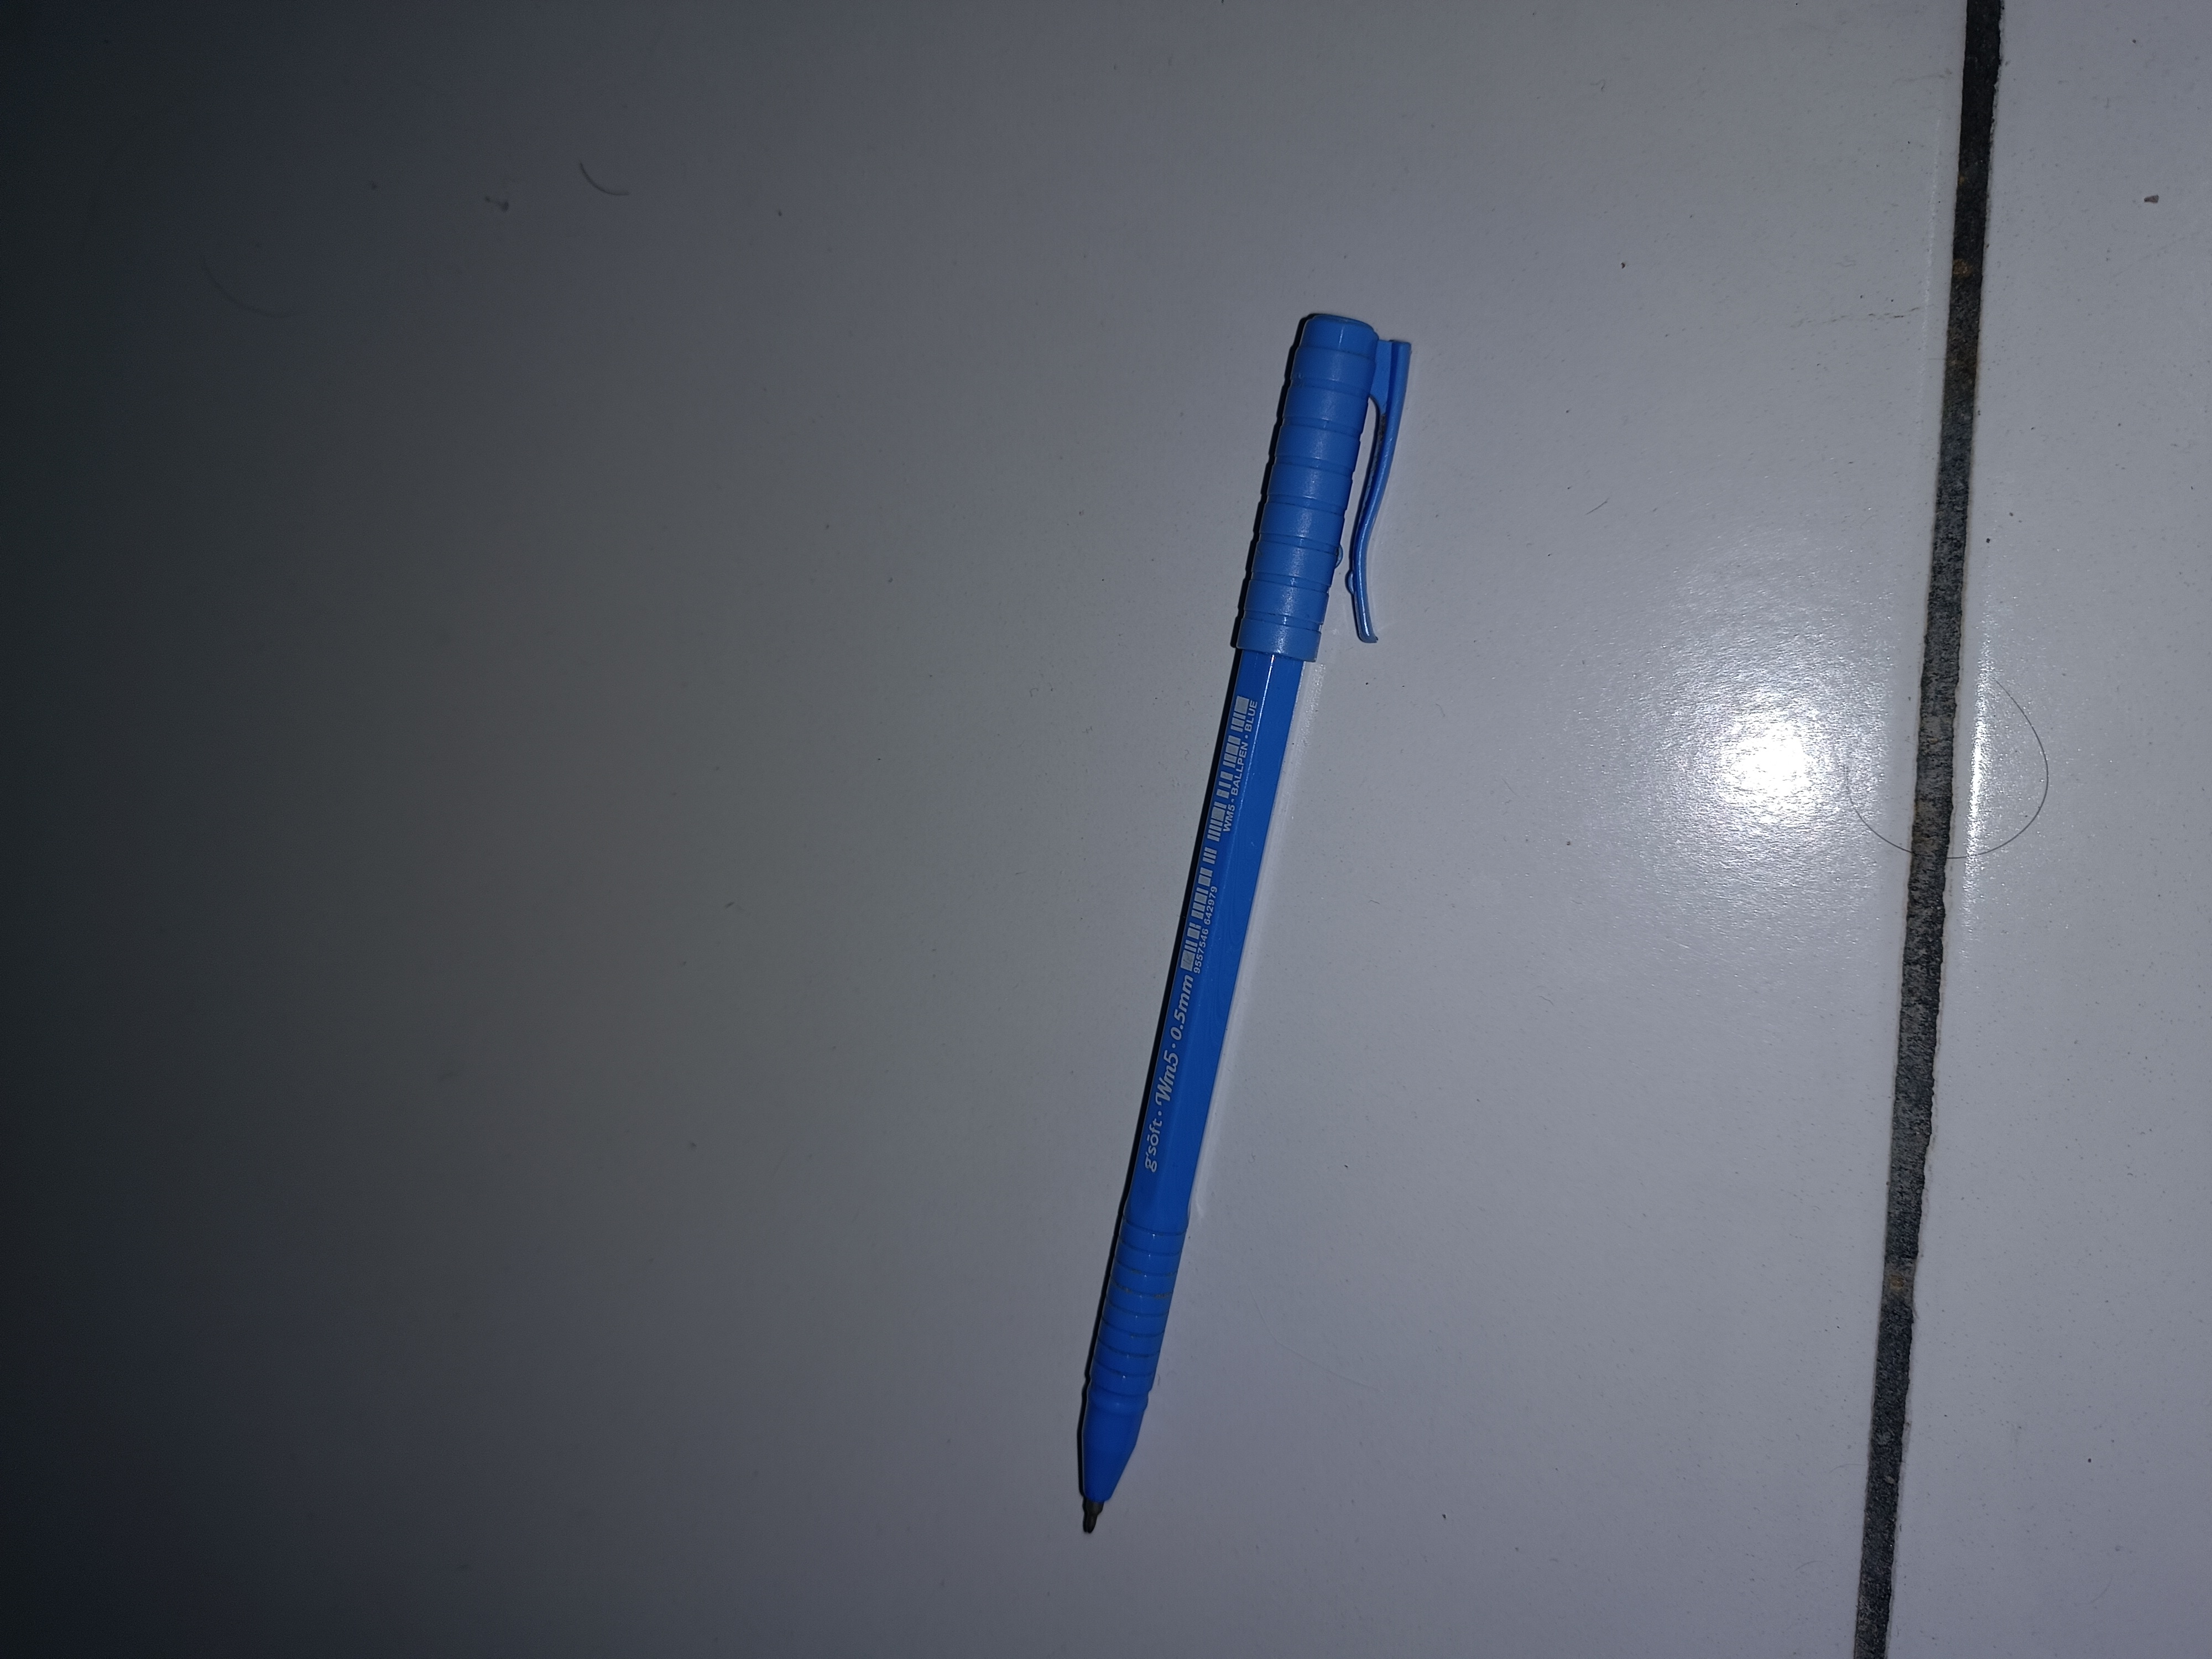Pen: (989, 263, 1404, 1603)
